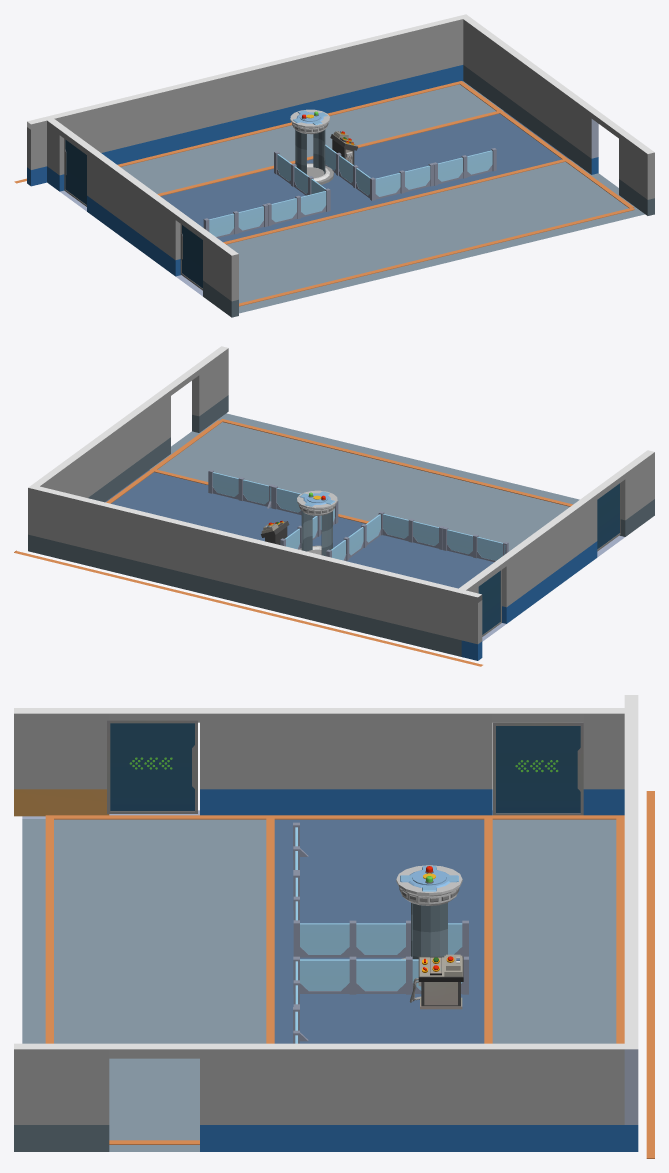
File: background_new.glb
3 views of the same model, one above another, from view 1: azimuth 30°, elevation 25°; view 2: azimuth 150°, elevation 25°; view 3: azimuth 270°, elevation 25° (orthographic). The views are drawn at different scales.
Parts seen in each view (by area): view 1: outer_walls_floor, reception_single_glass_wall_02.047, reception_single_glass_wall_02.001, reception_single_glass_wall_02.002, reception_door_01.003, reception_door_01.001, reception_cleaner_base_tier_01, reception_cleaner_base_tier_01_rotation, reception_cleaner_base_tier_03; view 2: outer_walls_floor, reception_single_glass_wall_02.047, reception_single_glass_wall_02.001, reception_single_glass_wall_02.002, reception_door_01.001, reception_door_01.003, reception_cleaner_base_tier_01_rotation, reception_cleaner_base_tier_01, reception_cleaner_base_tier_03; view 3: outer_walls_floor, reception_single_glass_wall_02.047, reception_door_01.001, reception_door_01.003, reception_cleaner_base_tier_03, reception_cleaner_base_tier_01_rotation, reception_cleaner_base_tier_01, reception_cleaner_base_tier_02.
Boxes of the visible parts, x1=… form: outer_walls_floor: x1=14, y1=14, x2=654, y2=317; reception_single_glass_wall_02.047: x1=266, y1=144, x2=434, y2=226; reception_single_glass_wall_02.001: x1=432, y1=148, x2=496, y2=185; reception_single_glass_wall_02.002: x1=203, y1=204, x2=267, y2=238; reception_door_01.003: x1=64, y1=139, x2=86, y2=206; reception_door_01.001: x1=180, y1=224, x2=202, y2=290; reception_cleaner_base_tier_01: x1=290, y1=109, x2=333, y2=184; reception_cleaner_base_tier_01_rotation: x1=295, y1=129, x2=325, y2=174; reception_cleaner_base_tier_03: x1=330, y1=131, x2=357, y2=165; outer_walls_floor: x1=14, y1=346, x2=654, y2=666; reception_single_glass_wall_02.047: x1=272, y1=485, x2=444, y2=560; reception_single_glass_wall_02.001: x1=208, y1=469, x2=274, y2=508; reception_single_glass_wall_02.002: x1=442, y1=527, x2=508, y2=562; reception_door_01.001: x1=597, y1=483, x2=620, y2=551; reception_door_01.003: x1=478, y1=570, x2=501, y2=636; reception_cleaner_base_tier_01_rotation: x1=301, y1=511, x2=332, y2=556; reception_cleaner_base_tier_01: x1=297, y1=490, x2=337, y2=554; reception_cleaner_base_tier_03: x1=261, y1=520, x2=289, y2=544; outer_walls_floor: x1=14, y1=695, x2=654, y2=1158; reception_single_glass_wall_02.047: x1=293, y1=873, x2=468, y2=1006; reception_door_01.001: x1=107, y1=720, x2=197, y2=813; reception_door_01.003: x1=493, y1=722, x2=583, y2=815; reception_cleaner_base_tier_03: x1=409, y1=954, x2=463, y2=1009; reception_cleaner_base_tier_01_rotation: x1=411, y1=903, x2=447, y2=959; reception_cleaner_base_tier_01: x1=396, y1=865, x2=462, y2=959; reception_cleaner_base_tier_02: x1=400, y1=866, x2=458, y2=891.
Bounding box in the file's own units: 79.8 × 10.64 × 58.76.
Materials: 1 (1 with a texture image).
